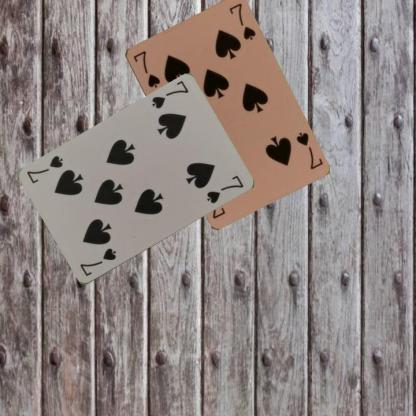7s: (77, 245, 118, 278), (149, 78, 190, 111), (131, 48, 161, 90), (293, 129, 323, 170)
